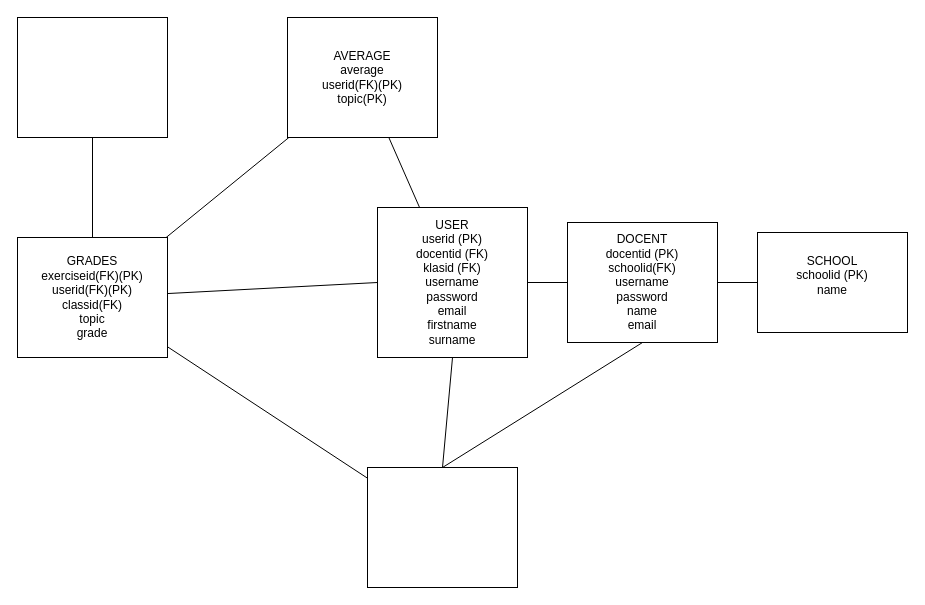
Some shapes in this 925 by 605 pixel diagram are drawn without their labels. Here are the shapes that lost their labels. From the top down, the centre of each, then its label:
(92,77): EXERCISES exerciseid(PK) topic
(442,527): CLASS classid (PK) docentid(FK)
